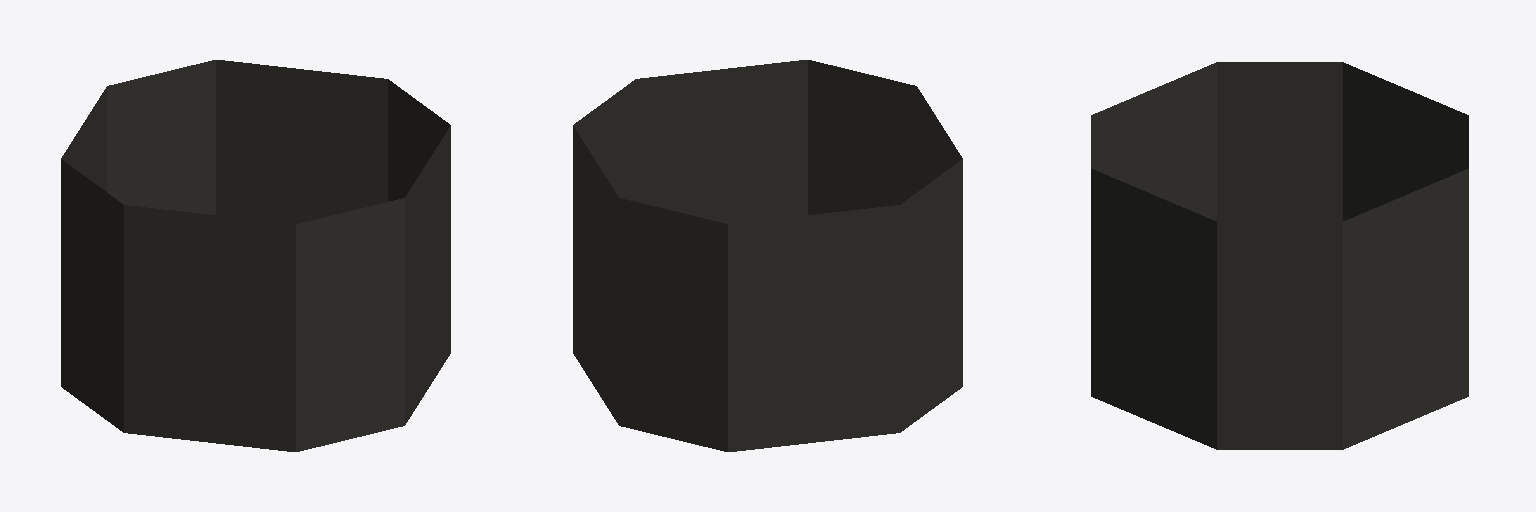
Rendered from cenario2.obj.
3 renders of one model, left to right at view 1: azimuth 30°, elevation 25°; view 2: azimuth 150°, elevation 25°; view 3: azimuth 270°, elevation 25°, orthographic.
Visible parts, largest first — view 1: Mesh1 Group1 Model; view 2: Mesh1 Group1 Model; view 3: Mesh1 Group1 Model.
Part boxes in pixels (x1,y1,x2,y2): Mesh1 Group1 Model: (61,60,450,451); Mesh1 Group1 Model: (573,60,962,451); Mesh1 Group1 Model: (1091,62,1468,449).
Bounding box in the file's own units: 30 × 20 × 30.